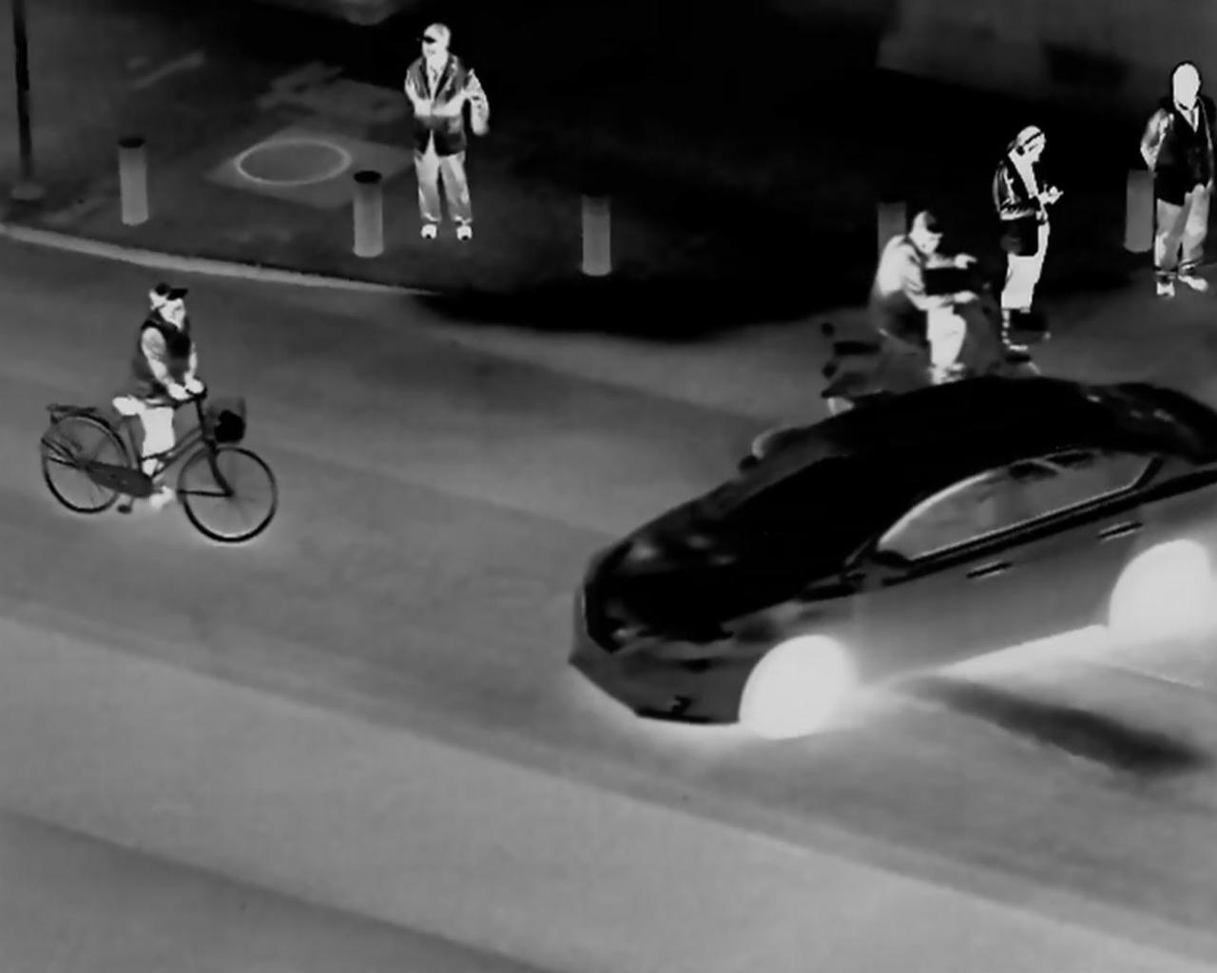person: (833, 200, 980, 399), (399, 23, 493, 247), (1143, 51, 1213, 300), (129, 280, 205, 507), (988, 121, 1058, 356)
